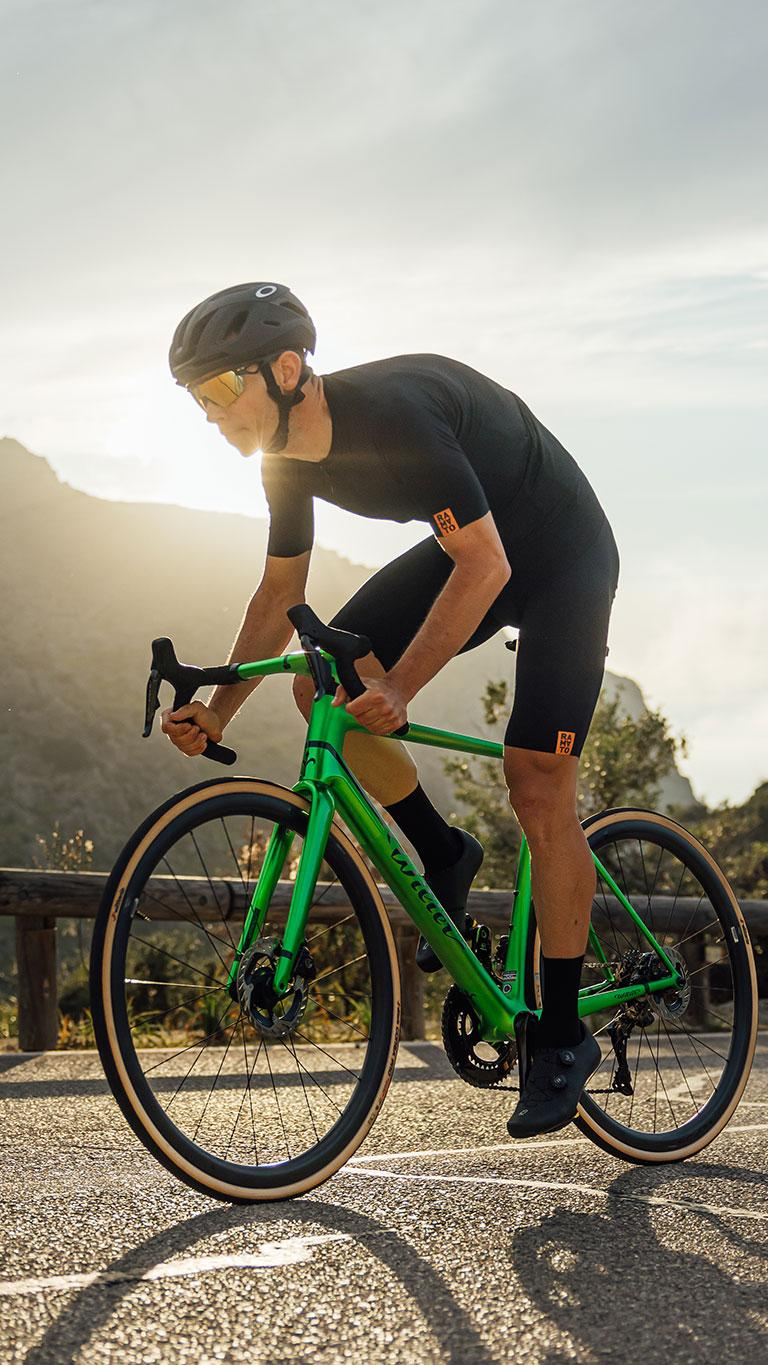bicycle: (80, 617, 766, 1207)
